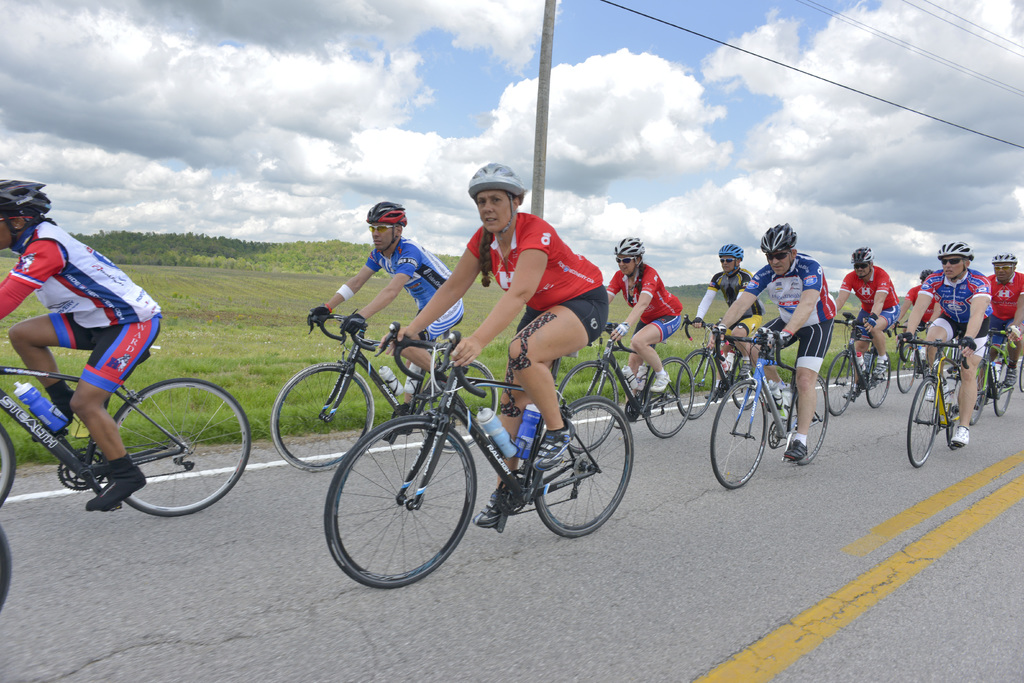Bike_toward: (320, 343, 641, 579)
